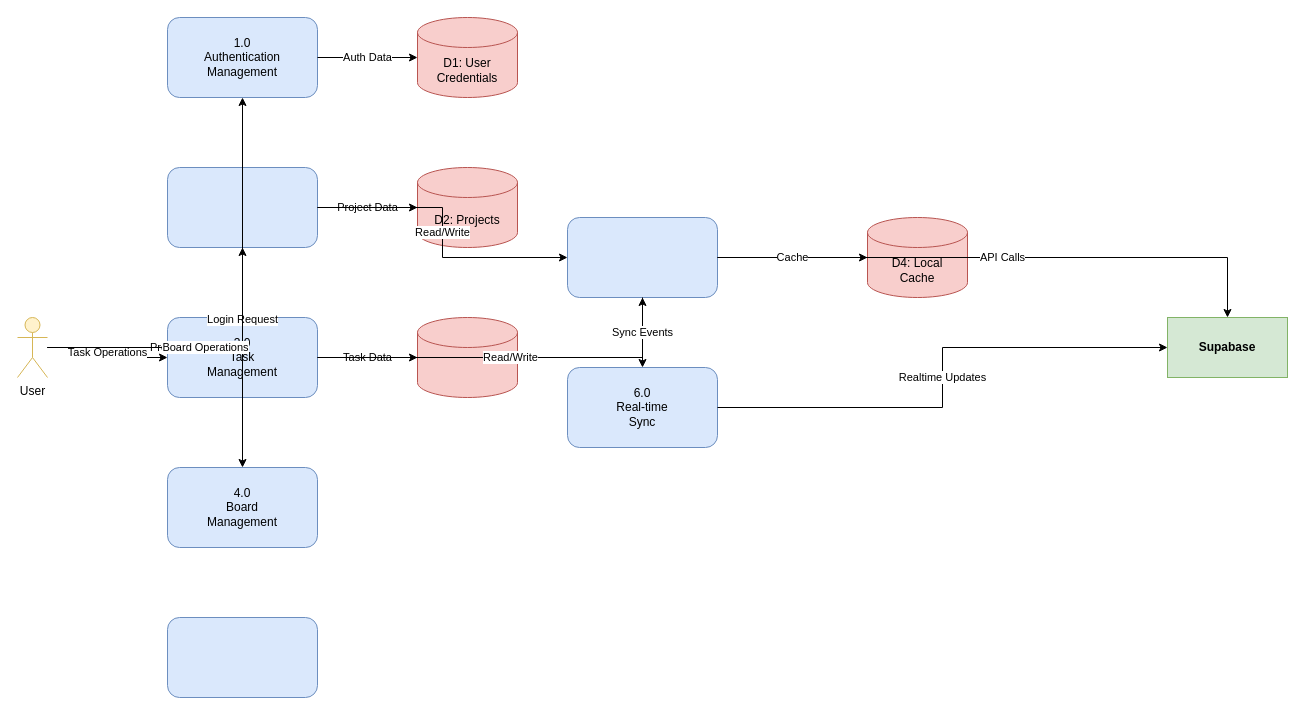
This 1305x715 diagram has some shape labels left out. Here are the shapes that lost their labels. From the top down, the box of each, then its label:
(166, 166, 318, 248): 2.0 Project Management
(566, 216, 718, 298): 5.0 Data Storage
(416, 316, 518, 398): D3: Tasks
(166, 616, 318, 698): 7.0 Notification Service
